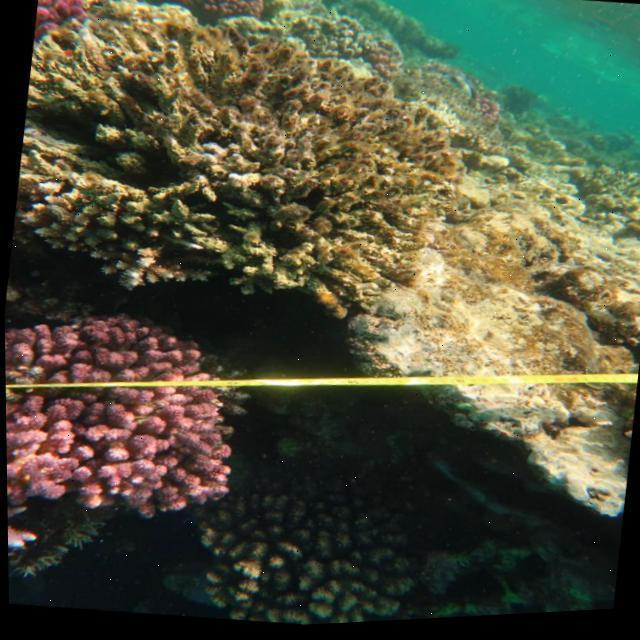Healthy Coral: (4, 297, 257, 537)
